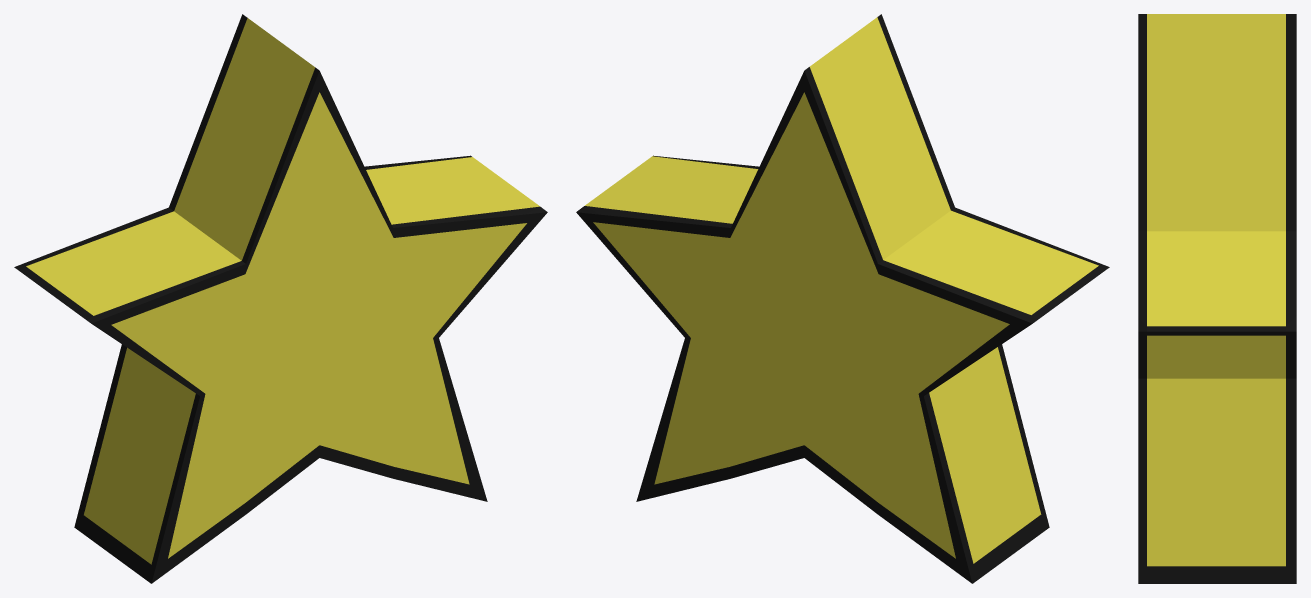
The model's file is star.fbx.
The picture shows the model from 3 angles, left to right: view 1: azimuth 30°, elevation 25°; view 2: azimuth 150°, elevation 25°; view 3: azimuth 270°, elevation 25°; orthographic projection. The views are drawn at different scales.
Parts seen in each view (by area): view 1: Plane; view 2: Plane; view 3: Plane.
Part boxes in pixels (bbox=[...]): Plane: bbox=[14, 14, 547, 583]; Plane: bbox=[576, 14, 1109, 583]; Plane: bbox=[1138, 14, 1296, 583].
Bounding box in the file's own units: 200 × 198 × 58.53.
